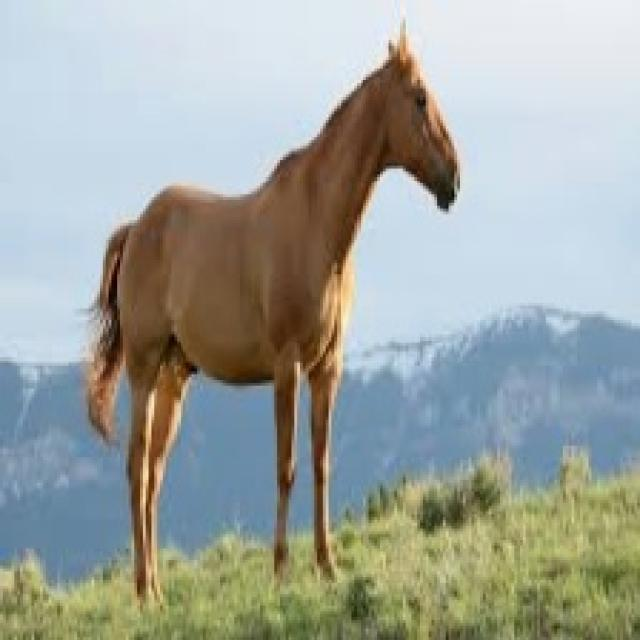animal: (80, 94, 509, 586)
